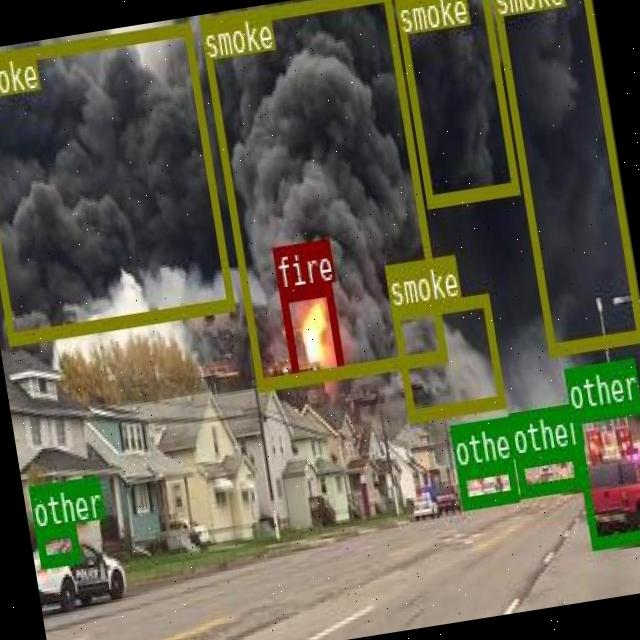fire: (280, 281, 345, 383)
smoke: (197, 0, 446, 388), (0, 22, 234, 343), (489, 0, 640, 354), (392, 0, 518, 207), (391, 294, 506, 422)
